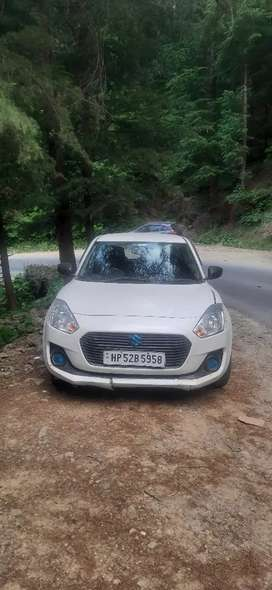HP52B5958: (102, 352, 165, 368)
